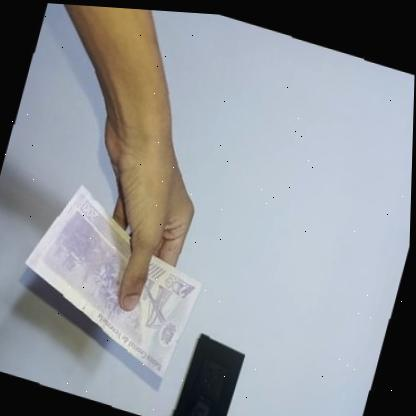two_hundred-back-vef: (7, 170, 222, 383)
